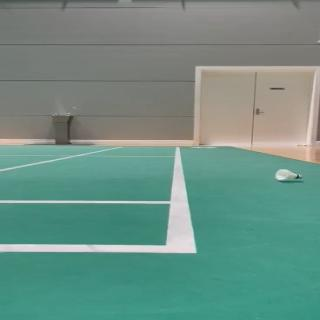Shuttle: (274, 169, 302, 182)
